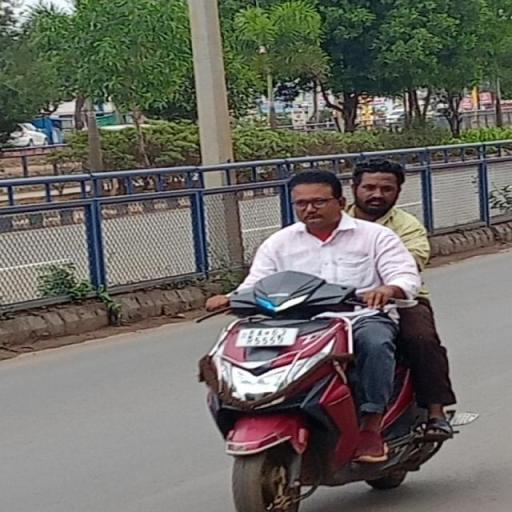bike: (198, 149, 484, 512)
withouthelmet: (290, 172, 340, 226), (356, 158, 402, 214)
